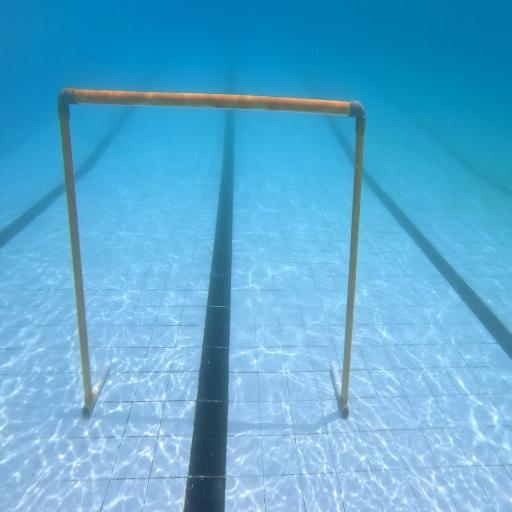gate: (58, 88, 366, 418)
